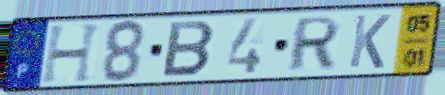4: (226, 15, 264, 77)
8: (99, 18, 148, 85)
B: (159, 20, 218, 79)
H: (39, 21, 105, 86)
K: (346, 13, 394, 71)
R: (284, 15, 344, 74)
